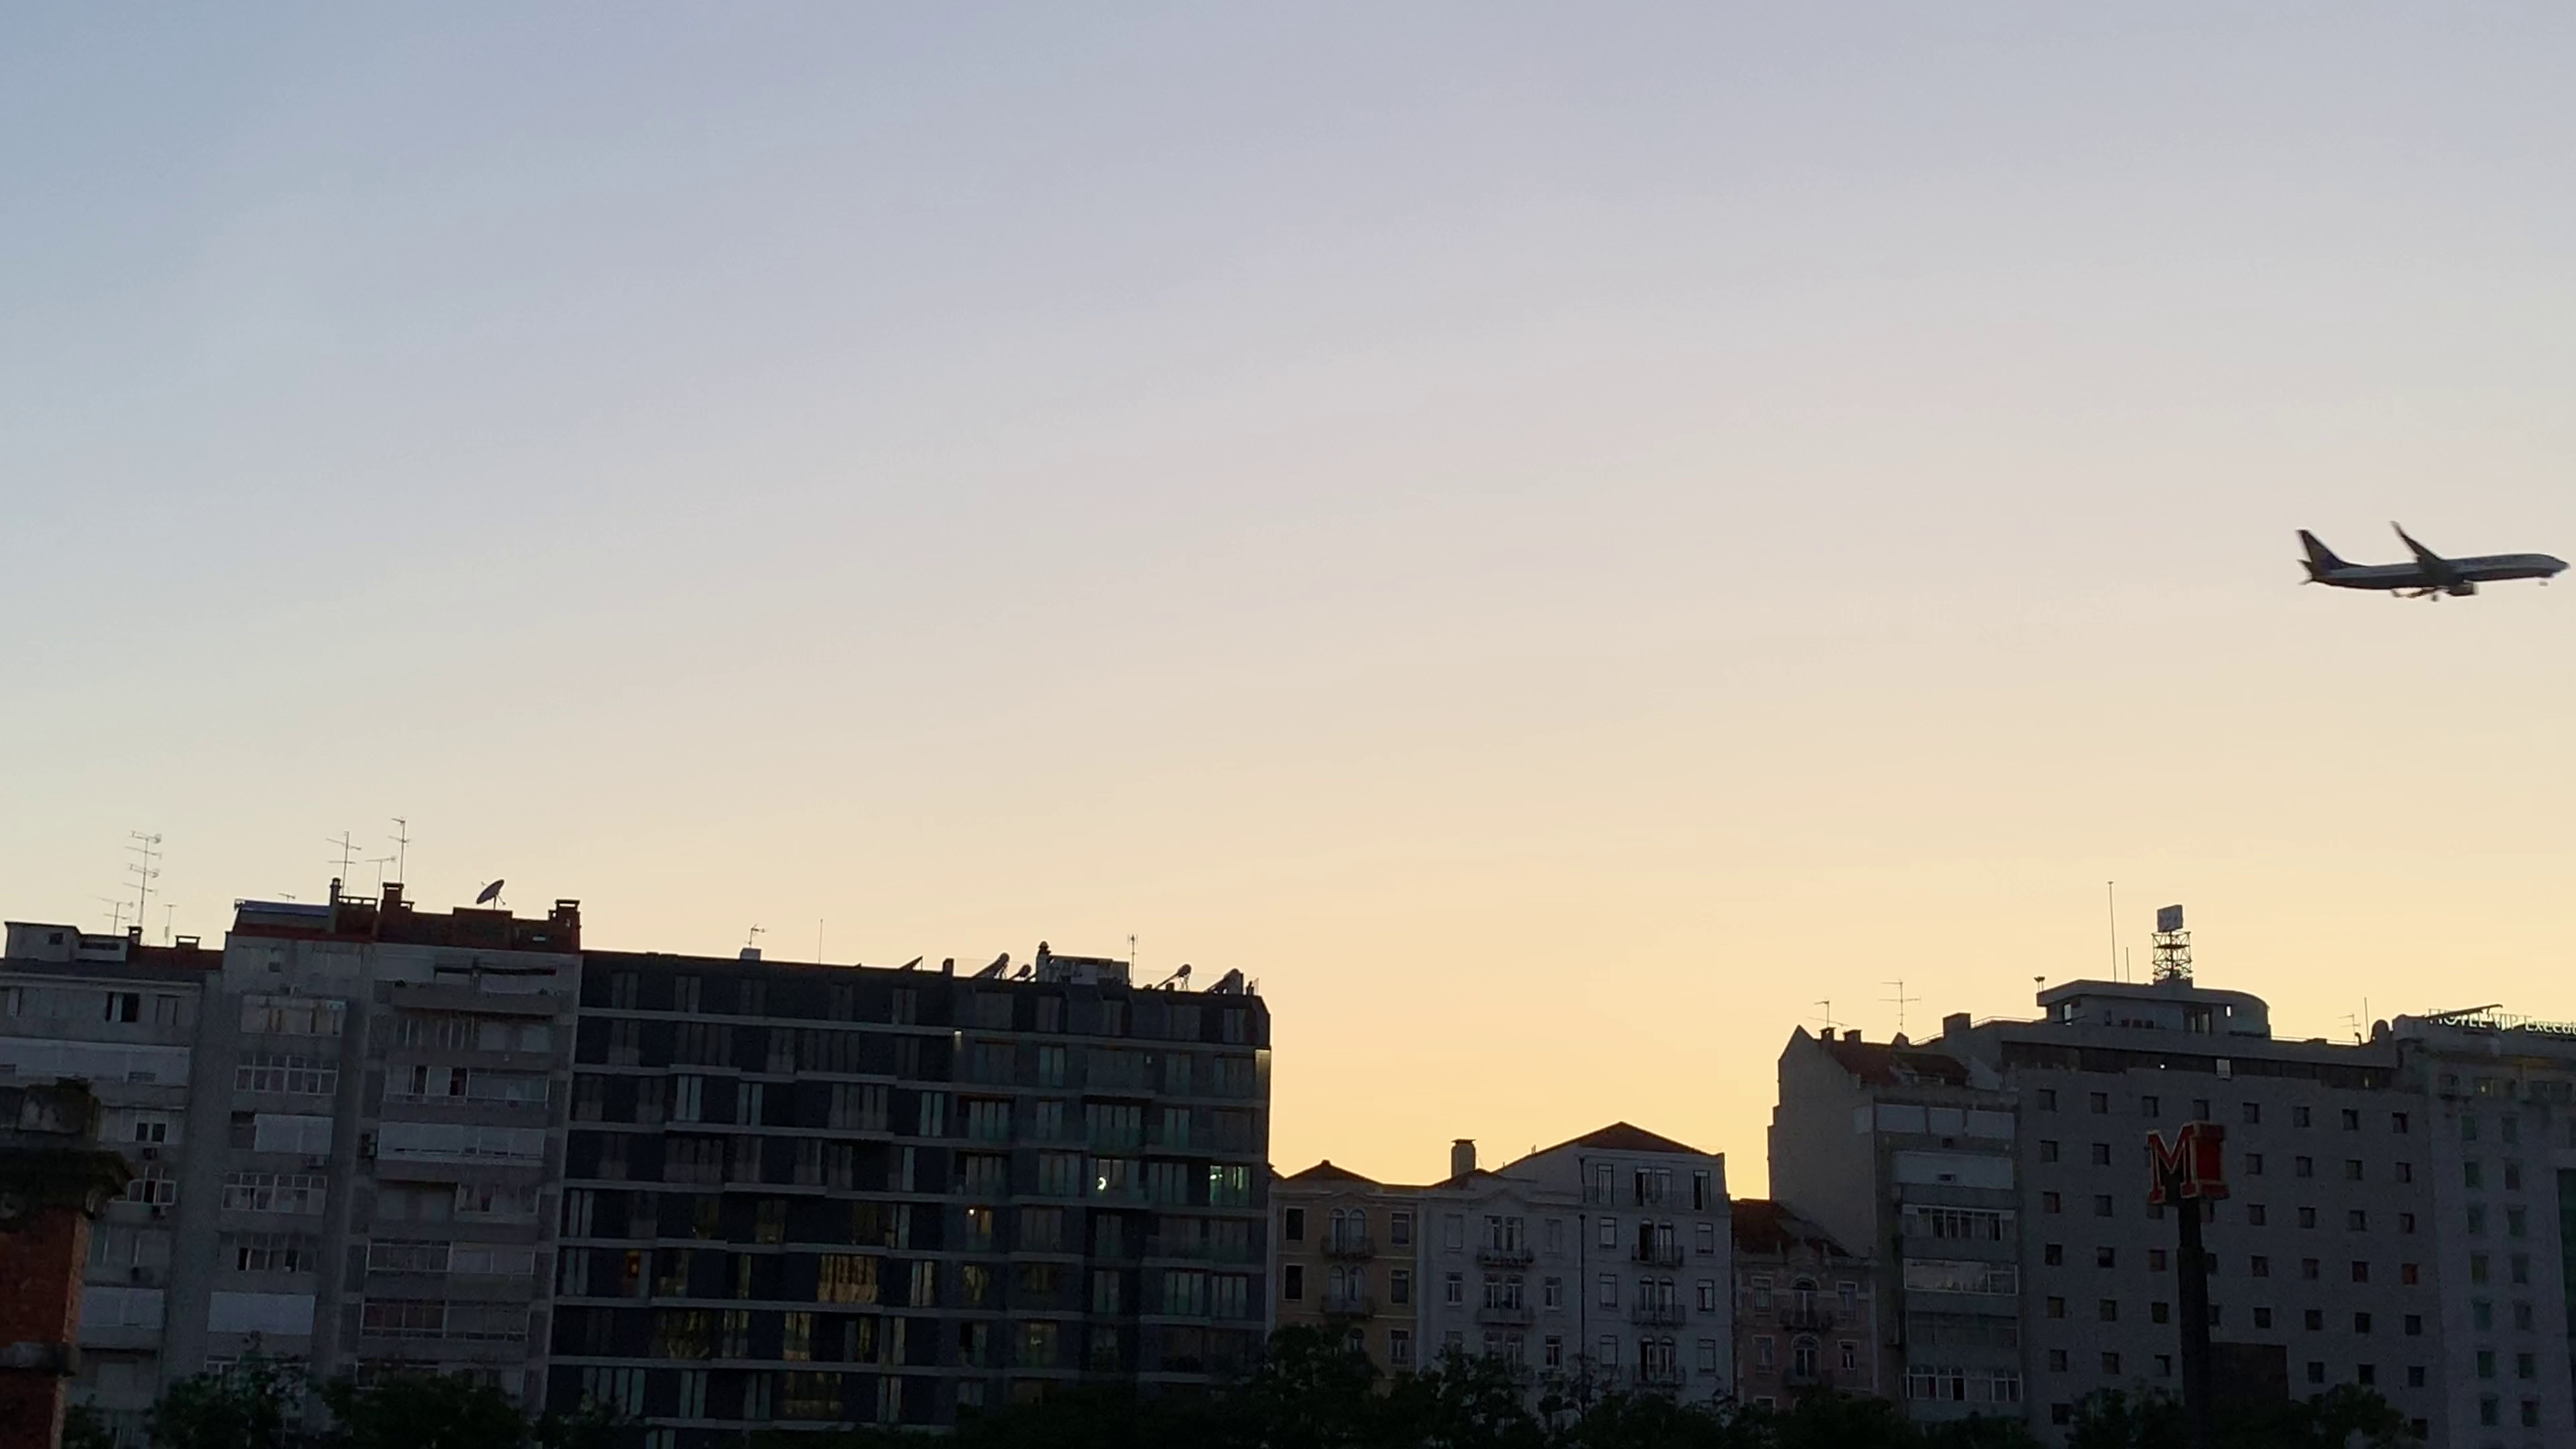plane: (2298, 524, 2571, 605)
